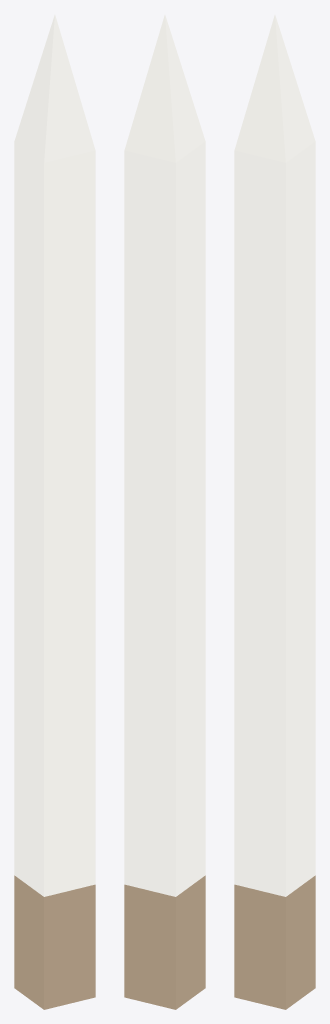
The model's file is Blender_ObStake_1.glb.
3 renders of one model, left to right at view 1: azimuth 30°, elevation 25°; view 2: azimuth 150°, elevation 25°; view 3: azimuth 330°, elevation 25°, orthographic.
Parts seen in each view (by area): view 1: Blender_ObStake_1; view 2: Blender_ObStake_1; view 3: Blender_ObStake_1.
Part boxes in pixels (left/top/right/bottom): Blender_ObStake_1: left=14, top=15, right=95, bottom=1009; Blender_ObStake_1: left=124, top=15, right=205, bottom=1009; Blender_ObStake_1: left=234, top=15, right=315, bottom=1009.
Size of the model in its own units: 0.06 by 1.09 by 0.06.
